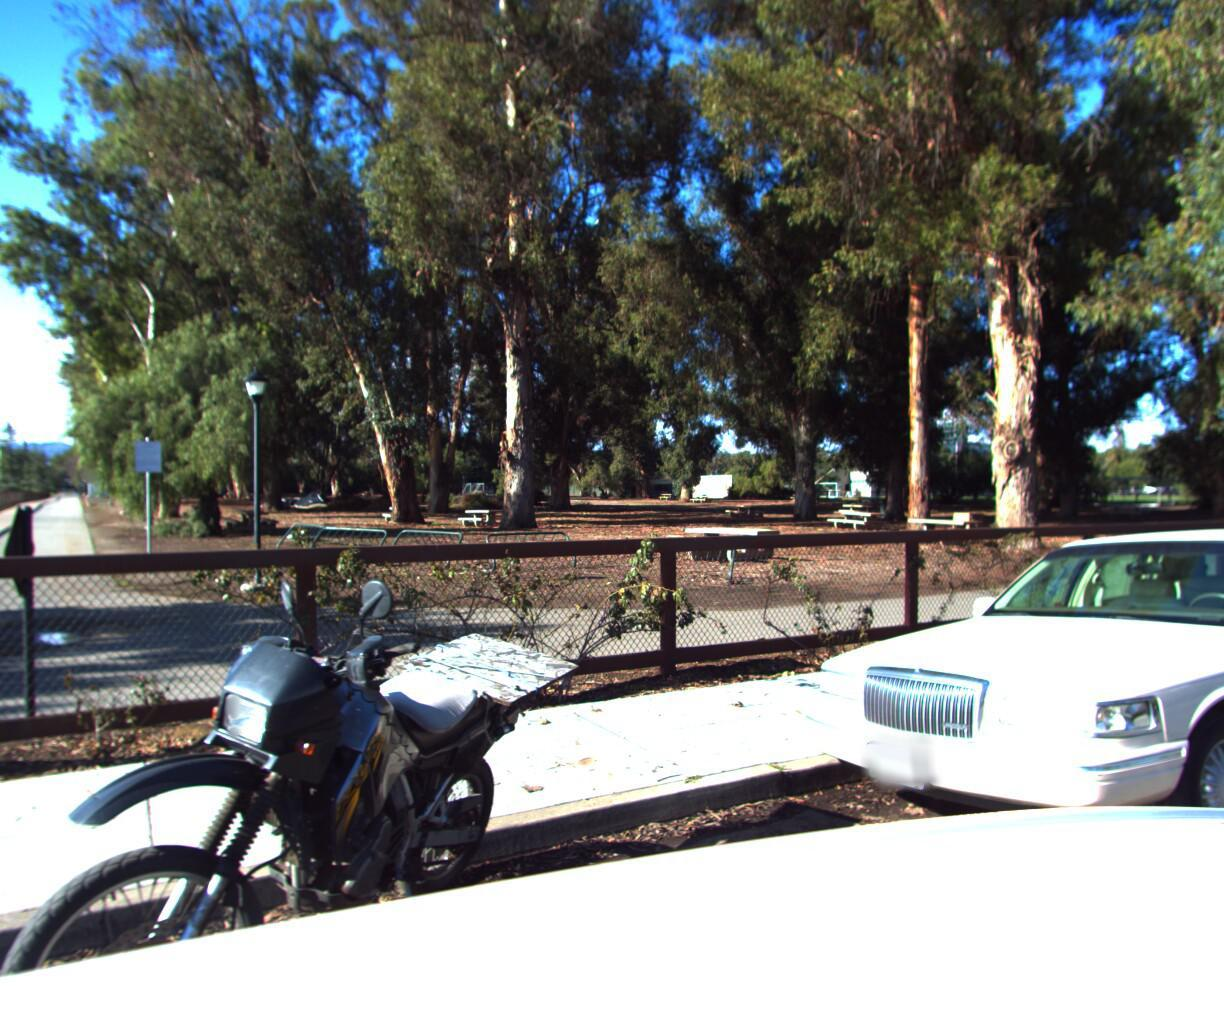car: (755, 511, 1224, 967)
motorcycle: (0, 529, 697, 1024)
